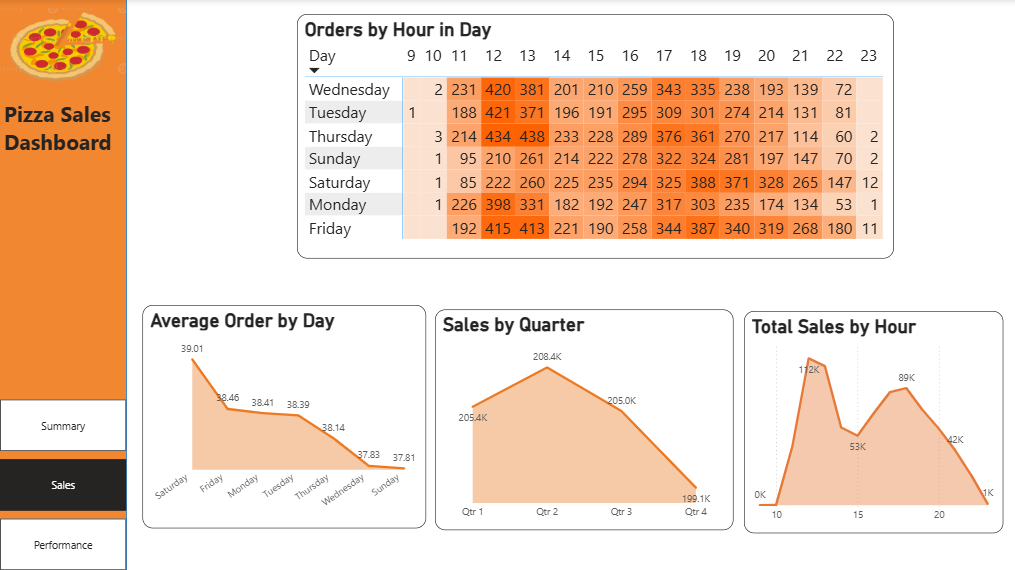

What the dashboard file says about the page in this screenshot:
{"tool":"powerbi","page":{"name":"Sales","canvas":[1280,720],"ordinal":1},"visuals":[{"type":"image","box":[0,0,159.1,120.9],"z":0},{"type":"shape","box":[159.1,0,1121.4,720.5],"z":1000},{"type":"pageNavigator","box":[0,504.2,159.1,216.3],"z":2000},{"type":"areaChart","title":"Average Order by Day","fields":{"Category":["orders.Day Name"],"Y":["Calculations.Average Order Value"]},"box":[179.5,385.5,357.2,281.6],"z":3000},{"type":"textbox","box":[0,120.9,159.1,85.9],"z":4000},{"type":"pivotTable","title":"Orders by Hour in Day ","fields":{"Rows":["orders.Day Name"],"Columns":["orders.Hour"],"Values":["Calculations.Total Orders"]},"box":[374.2,18.9,752.1,308],"z":5000},{"type":"areaChart","title":"Sales by Quarter","fields":{"Category":["orders.date.Variation.Date Hierarchy.Quarter"],"Y":["Calculations.Total Sales"]},"box":[548,391.2,376.1,277.8],"z":6000},{"type":"areaChart","title":"Total Sales by Hour","fields":{"Category":["orders.Hour"],"Y":["Calculations.Total Sales"]},"box":[937.3,393.1,326.9,279.7],"z":7000}]}

Visuals, with their boxes in screenshot pixels (x1, y1, x2, y2), scaled from the page's 1280x720 canvas onto the 1015x570 screenshot:
image: [0, 0, 126, 96]
shape: [126, 0, 1014, 569]
pageNavigator: [0, 399, 126, 569]
"Average Order by Day" areaChart: [142, 305, 426, 528]
textbox: [0, 96, 126, 164]
"Orders by Hour in Day " pivotTable: [297, 15, 893, 259]
"Sales by Quarter" areaChart: [435, 310, 733, 530]
"Total Sales by Hour" areaChart: [743, 311, 1002, 533]
